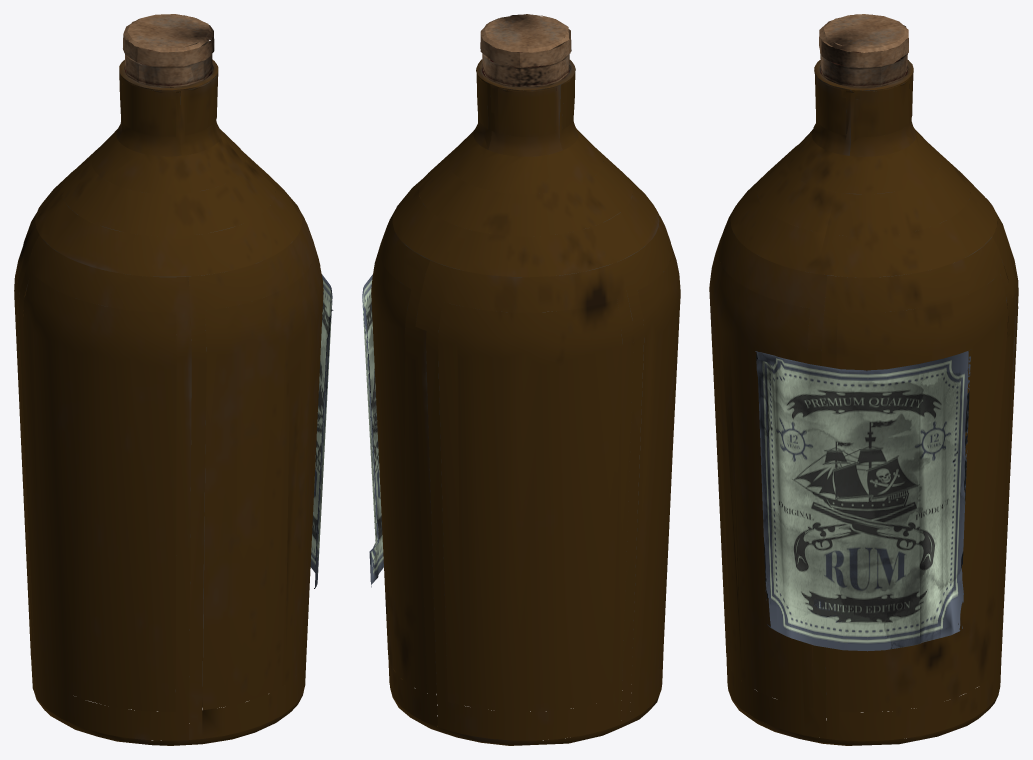
Rendered from rum2_rotatelabel.gltf.
3 renders of one model, left to right at view 1: azimuth 30°, elevation 25°; view 2: azimuth 150°, elevation 25°; view 3: azimuth 270°, elevation 25°, orthographic.
Visible parts, largest first — view 1: bottiglia_0, tappo_1, etichetta_2; view 2: bottiglia_0, tappo_1, etichetta_2; view 3: bottiglia_0, etichetta_2, tappo_1.
Boxes of the visible parts, box(x1,y1,x2,y2) form: bottiglia_0: box(14, 59, 323, 745); tappo_1: box(123, 14, 214, 87); etichetta_2: box(310, 274, 333, 588); bottiglia_0: box(371, 59, 680, 745); tappo_1: box(480, 14, 571, 90); etichetta_2: box(362, 274, 383, 587); bottiglia_0: box(709, 60, 1018, 745); etichetta_2: box(755, 350, 970, 651); tappo_1: box(819, 14, 908, 87).
Bounding box in the file's own units: 0.0955 × 0.218 × 0.0923.
3 materials, 3 textured.
